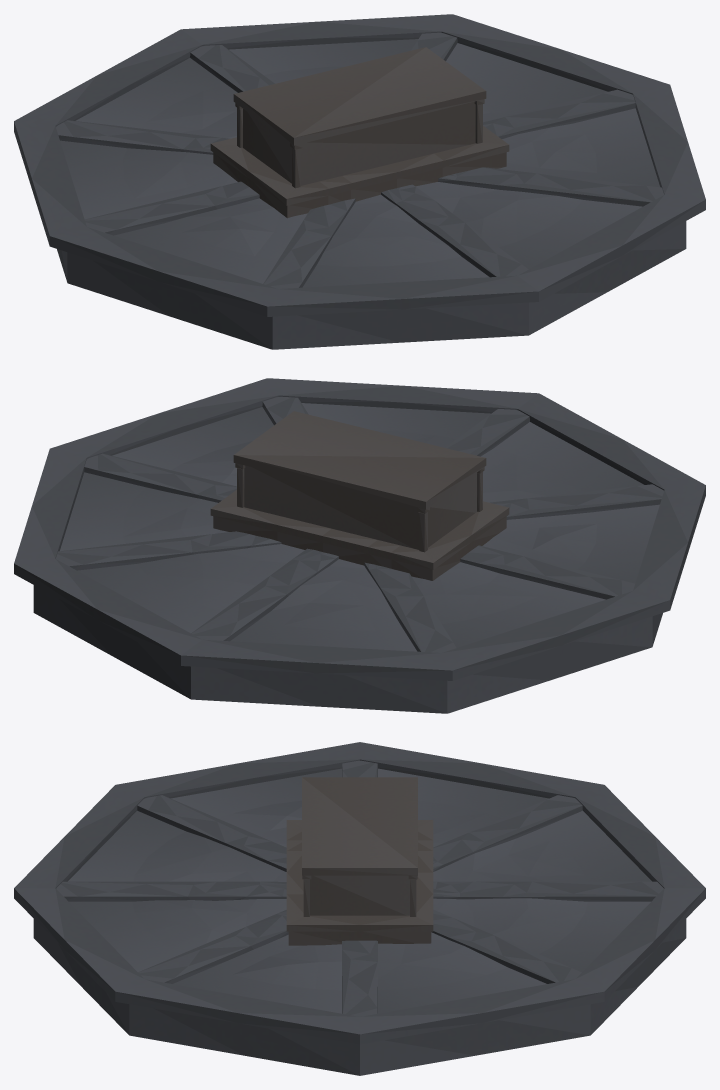
The model's file is Altar.fbx.
The picture shows the model from 3 angles, top to bottom: view 1: azimuth 30°, elevation 25°; view 2: azimuth 150°, elevation 25°; view 3: azimuth 270°, elevation 25°; orthographic projection. The views are drawn at different scales.
Parts seen in each view (by area): view 1: polySurface1346; view 2: polySurface1346; view 3: polySurface1346.
Boxes of the visible parts, left/top/right/bottom form: polySurface1346: left=14, top=14, right=705, bottom=349; polySurface1346: left=14, top=378, right=705, bottom=713; polySurface1346: left=14, top=742, right=705, bottom=1075.
Size of the model in its own units: 16.97 by 3.12 by 16.97.
